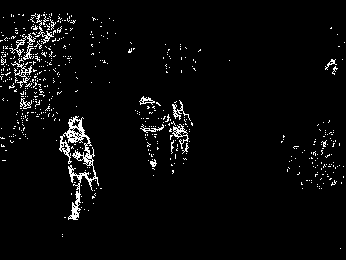person: (57, 115, 100, 220), (130, 95, 165, 172), (168, 97, 201, 176)
